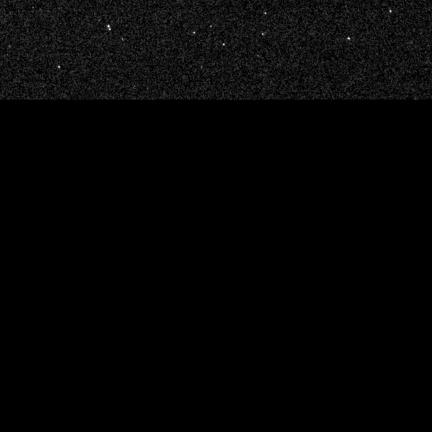blob: (348, 37, 351, 41), (262, 33, 265, 36), (58, 66, 61, 69), (265, 12, 268, 15), (223, 44, 226, 46), (390, 10, 392, 13), (194, 32, 196, 35)
